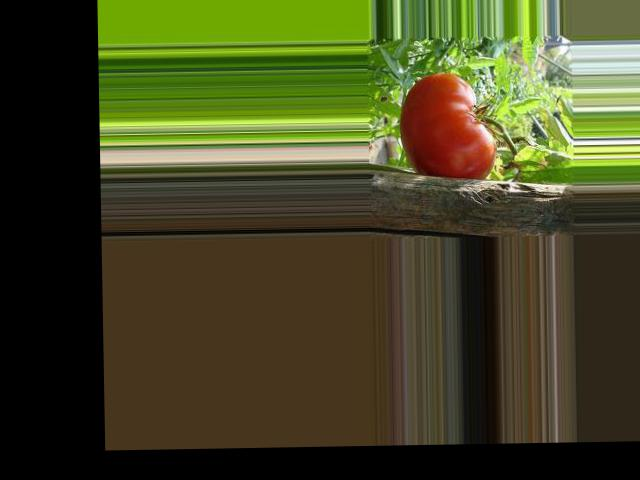tomato: (400, 71, 497, 181)
